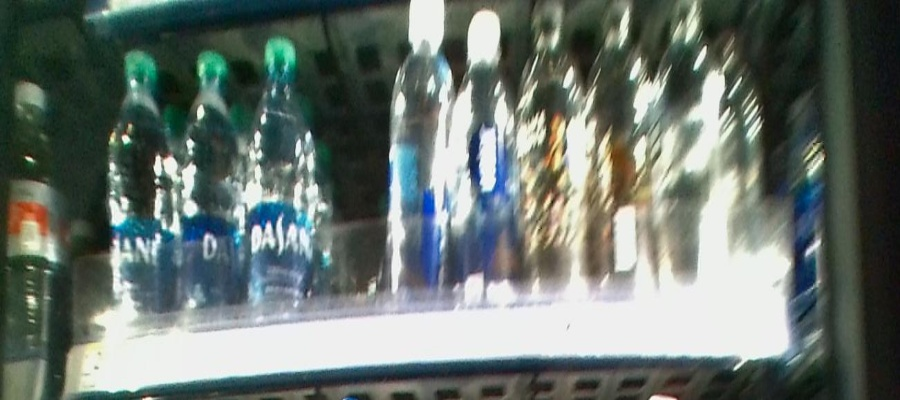bottle: (386, 1, 452, 314), (243, 35, 314, 322), (105, 30, 171, 326), (588, 9, 651, 310), (659, 8, 722, 300), (456, 10, 517, 308), (522, 12, 581, 305), (178, 44, 236, 328)
